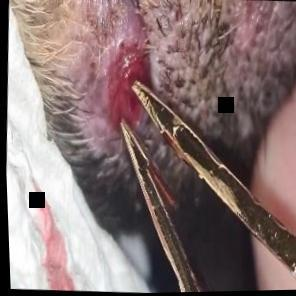skin_lesions: (98, 41, 158, 144)
